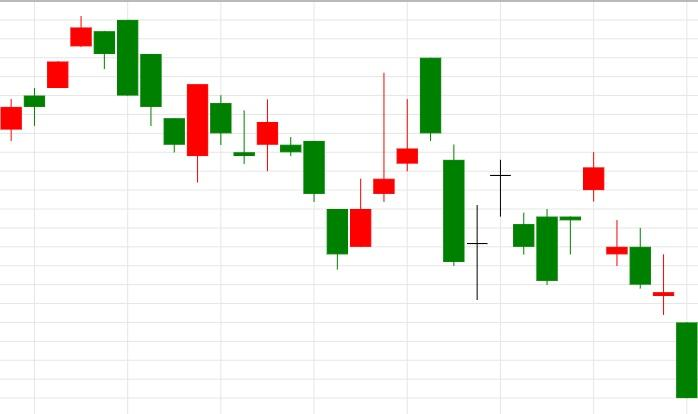three_white_soldiers_rise: (186, 73, 418, 270)
